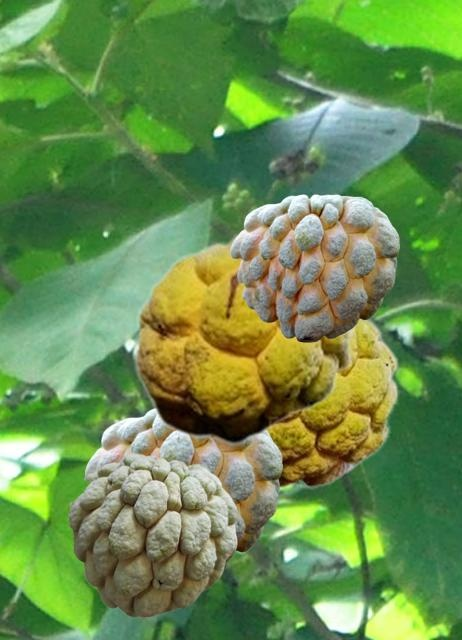atis: (132, 232, 356, 444), (85, 409, 281, 563), (68, 453, 236, 616), (230, 194, 398, 341), (269, 319, 398, 488)
